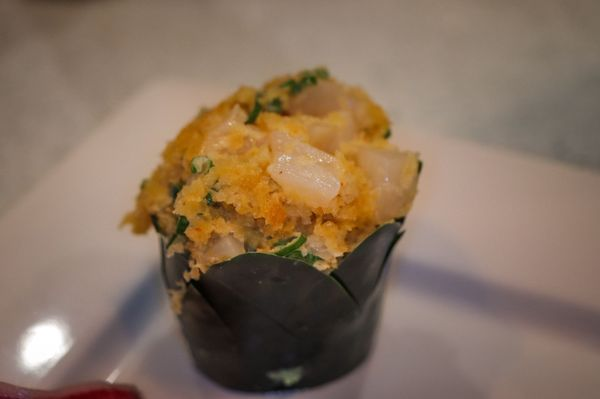sushi: (116, 66, 422, 348)
